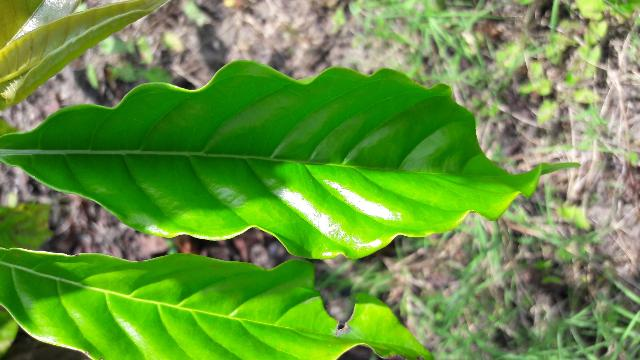healthy: (3, 72, 533, 252)
